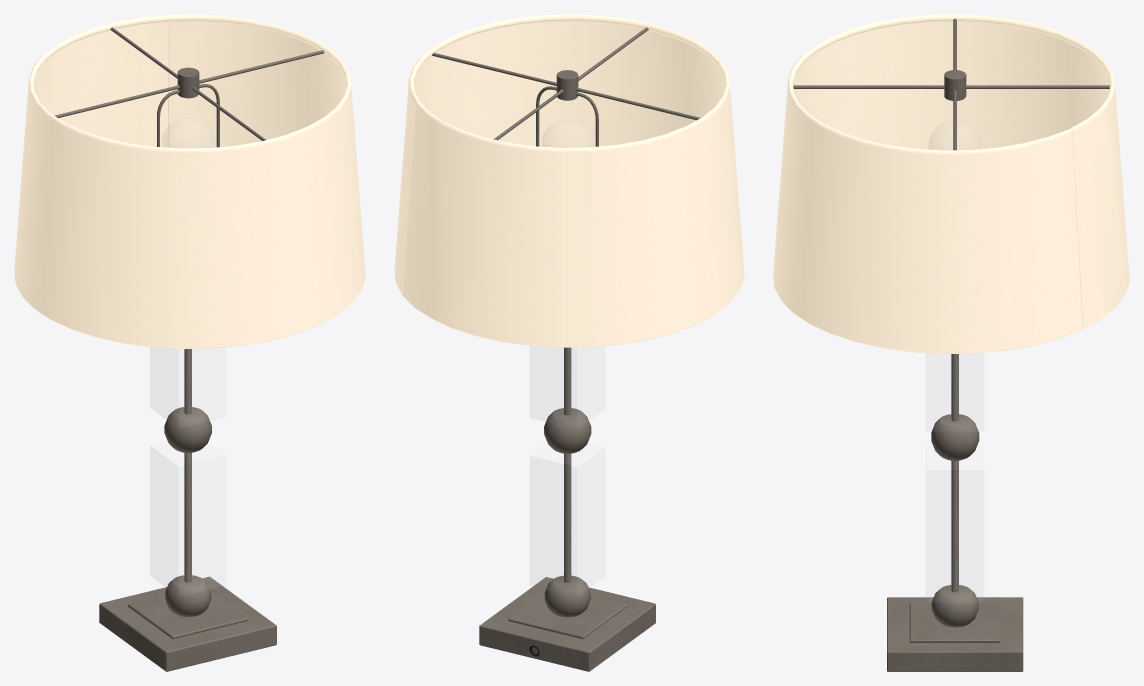
3 renders of one model, left to right at view 1: azimuth 30°, elevation 25°; view 2: azimuth 150°, elevation 25°; view 3: azimuth 270°, elevation 25°, orthographic.
Visible parts, largest first — view 1: Shape3; view 2: Shape3; view 3: Shape3.
Part boxes in pixels (box(x1,y1,x2,y2)): Shape3: box(14, 14, 365, 671); Shape3: box(394, 14, 744, 671); Shape3: box(773, 14, 1129, 671).
Bounding box in the file's own units: 0.4318 × 0.762 × 0.4318.
3 materials, 3 textured.
